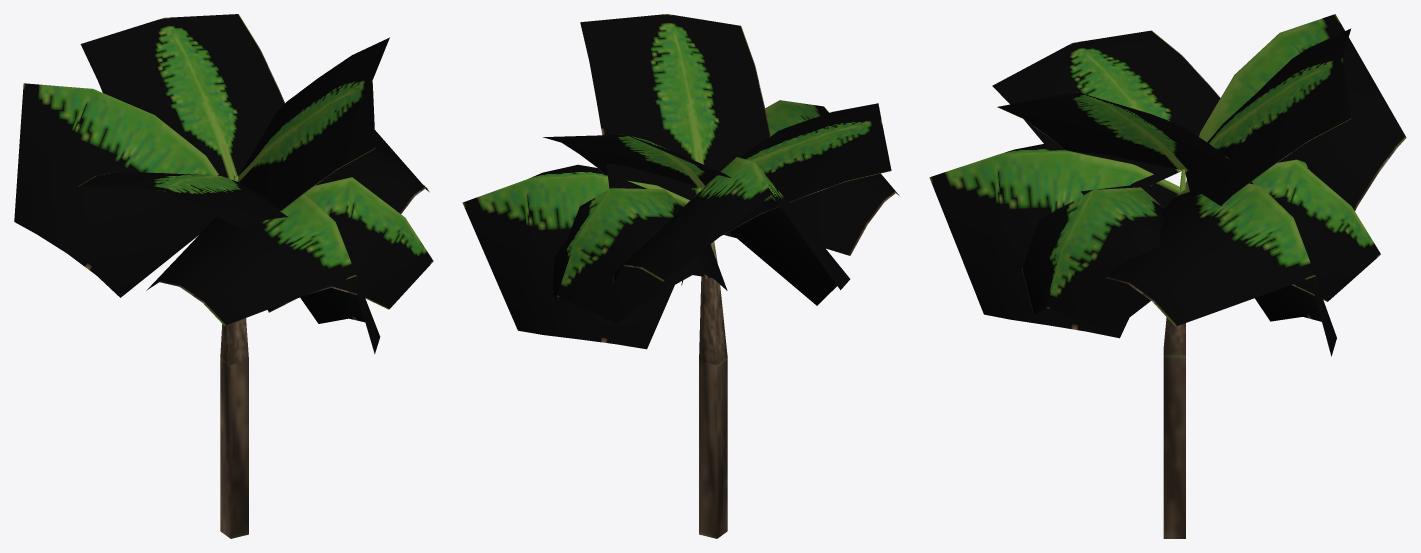
The model's file is palm_tree_2_5.dae.
The picture shows the model from 3 angles, left to right: view 1: azimuth 30°, elevation 25°; view 2: azimuth 150°, elevation 25°; view 3: azimuth 270°, elevation 25°; orthographic projection. The views are drawn at different scales.
Parts seen in each view (by area): view 1: Plane.001; view 2: Plane.001; view 3: Plane.001.
Part boxes in pixels (x1=…): Plane.001: x1=14, y1=14, x2=433, y2=538; Plane.001: x1=462, y1=14, x2=899, y2=538; Plane.001: x1=929, y1=14, x2=1406, y2=538.
Bounding box in the file's own units: 0.6119 × 0.648 × 0.7406.
Materials: 1 (1 with a texture image).
